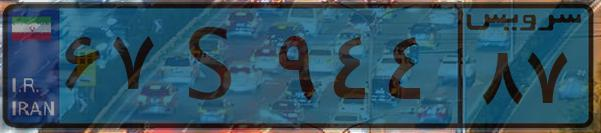4: (385, 28, 445, 110), (330, 28, 385, 110)
6: (57, 26, 110, 100)
7: (525, 38, 570, 115), (110, 28, 158, 98)
8: (475, 38, 525, 113)
9: (270, 28, 330, 110)
S: (158, 12, 270, 120)
